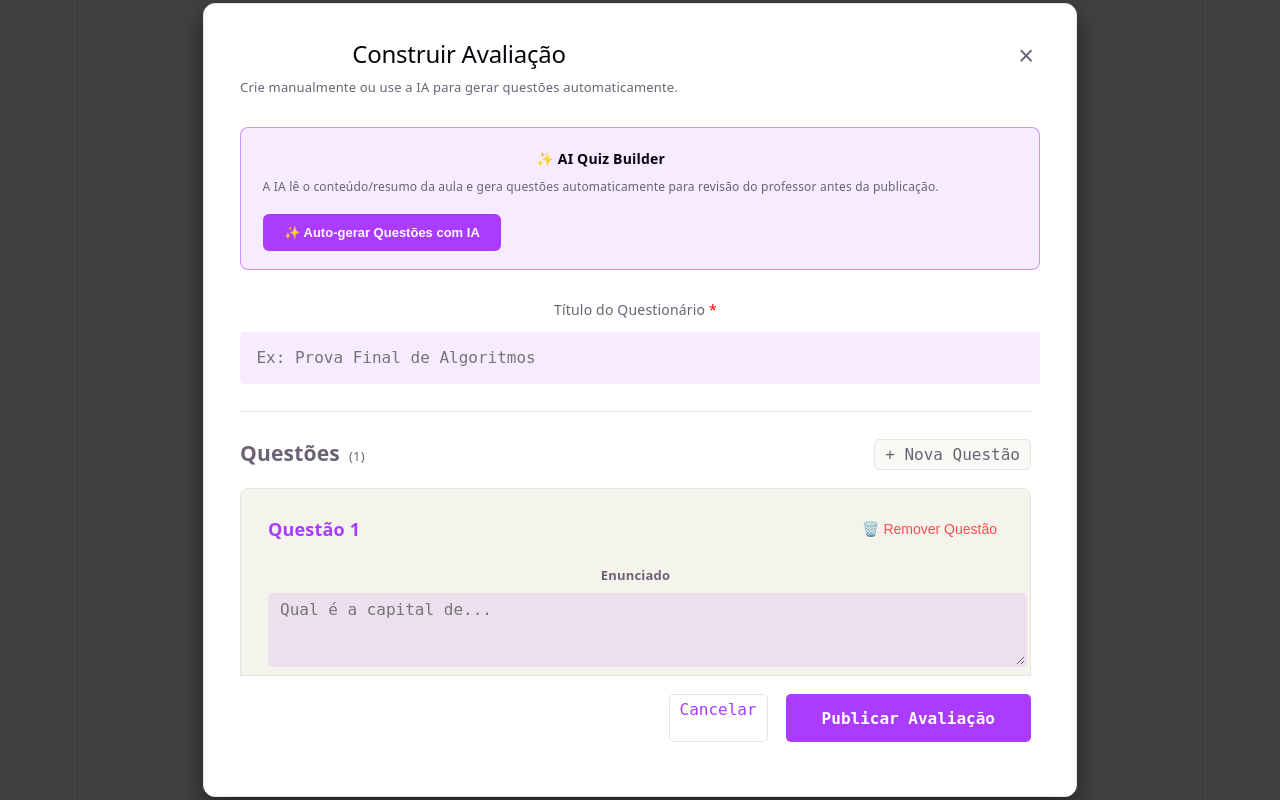
Test: CreateQuizModal › deve adicionar uma nova questão quando o botão for clicado
Expected: the heading "Questão 1" is shown, x1=268 y1=516 x2=360 y2=542
Expected: the text "Questão 2" is not shown
Clica no botão para adicionar nova questão
Click the button "+ Nova Questão". click: (953, 454)
box: x1=874 y1=439 x2=1031 y2=470
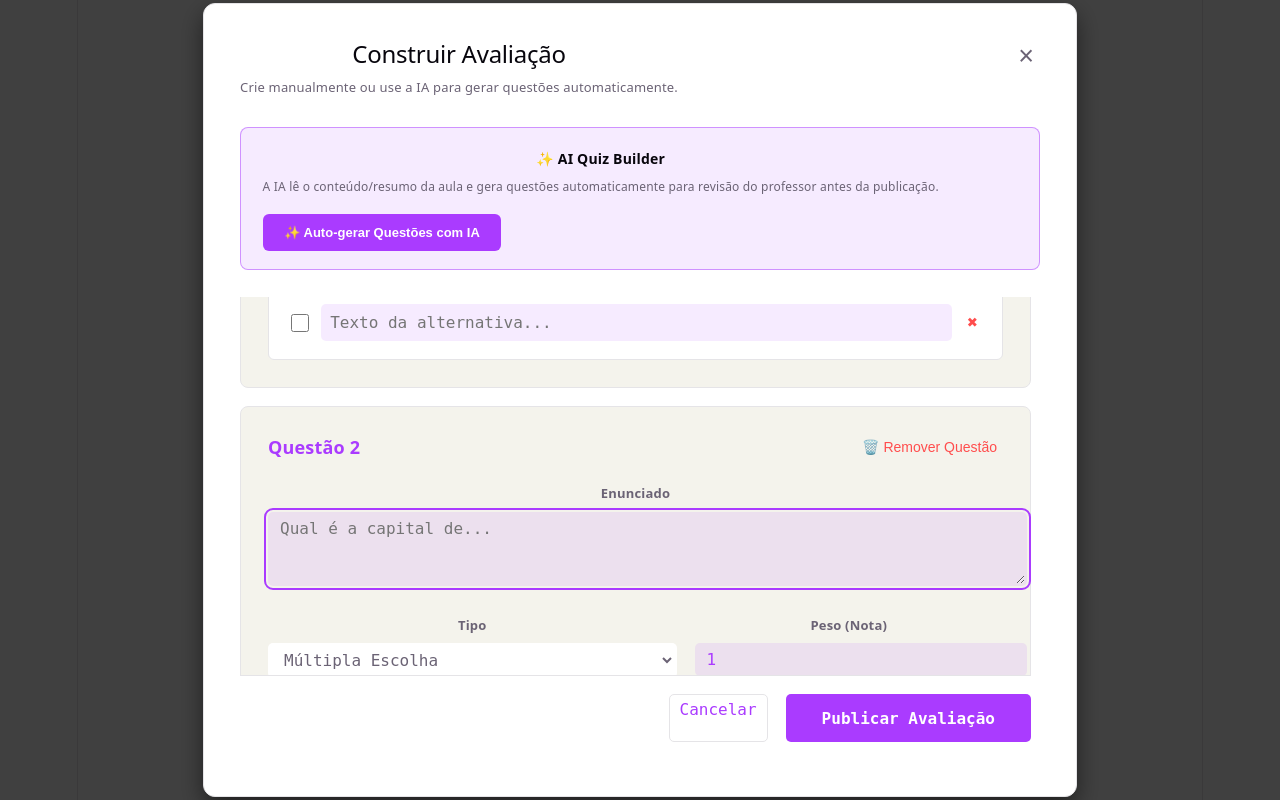
Now the heading "Questão 2" is shown, box x1=268 y1=434 x2=360 y2=460
